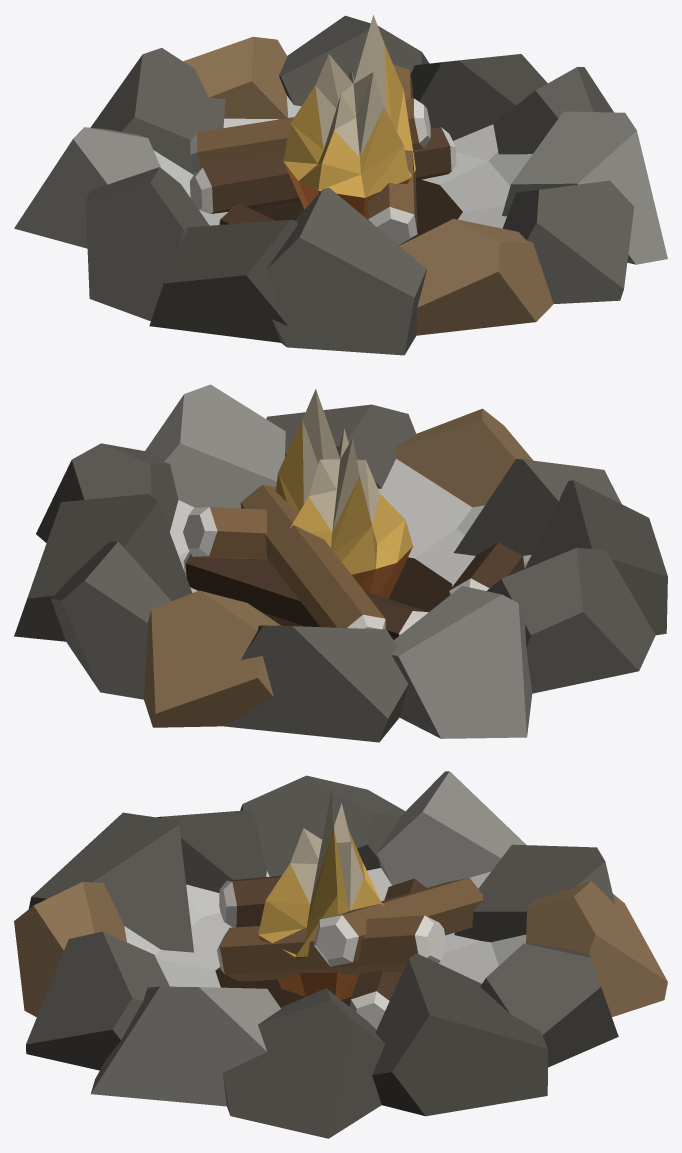
File: stone-fire-pit-4136b0.glb
3 views of the same model, one above another, from view 1: azimuth 30°, elevation 25°; view 2: azimuth 150°, elevation 25°; view 3: azimuth 270°, elevation 25° (orthographic). The views are drawn at different scales.
Parts seen in each view (by area): view 1: fire-pit, flame-mesh; view 2: fire-pit, flame-mesh; view 3: fire-pit, flame-mesh.
Part boxes in pixels (x1,y1,x2,y2): fire-pit: [14, 15, 667, 355]; flame-mesh: [283, 15, 415, 219]; fire-pit: [14, 384, 667, 742]; flame-mesh: [275, 389, 412, 598]; fire-pit: [14, 771, 667, 1138]; flame-mesh: [258, 789, 384, 999].
Bounding box in the file's own units: 1.21 × 0.42 × 1.16.
